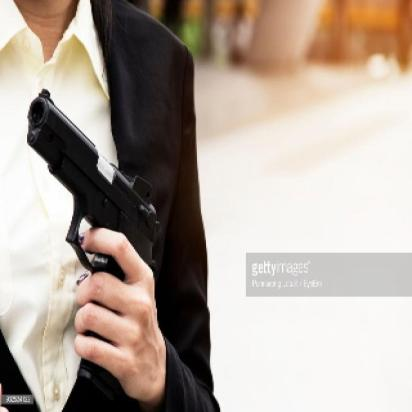Gun: (23, 85, 165, 294)
